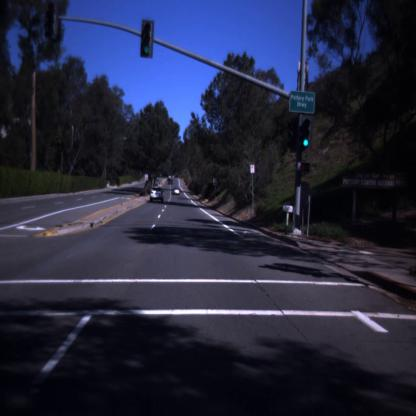trafficlight: (140, 16, 154, 58), (299, 110, 311, 157)
